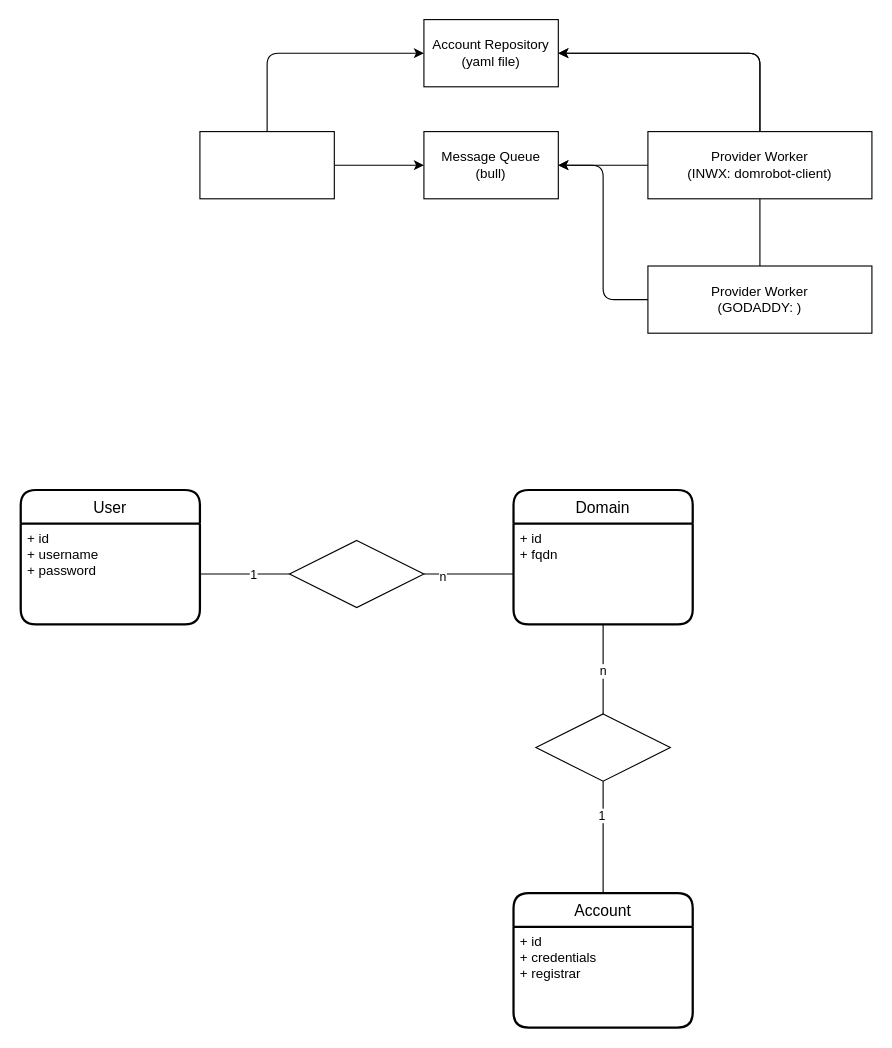
Image size: 892x1048. Some labels were removed from this diagram. The shapes that lost their labels are listed below. From the top down, each one's centre as x and y in pixels, then its label:
the point at 266,164: DDNS API (express)
the point at 356,573: besitzt
the point at 602,747: registriert bei
